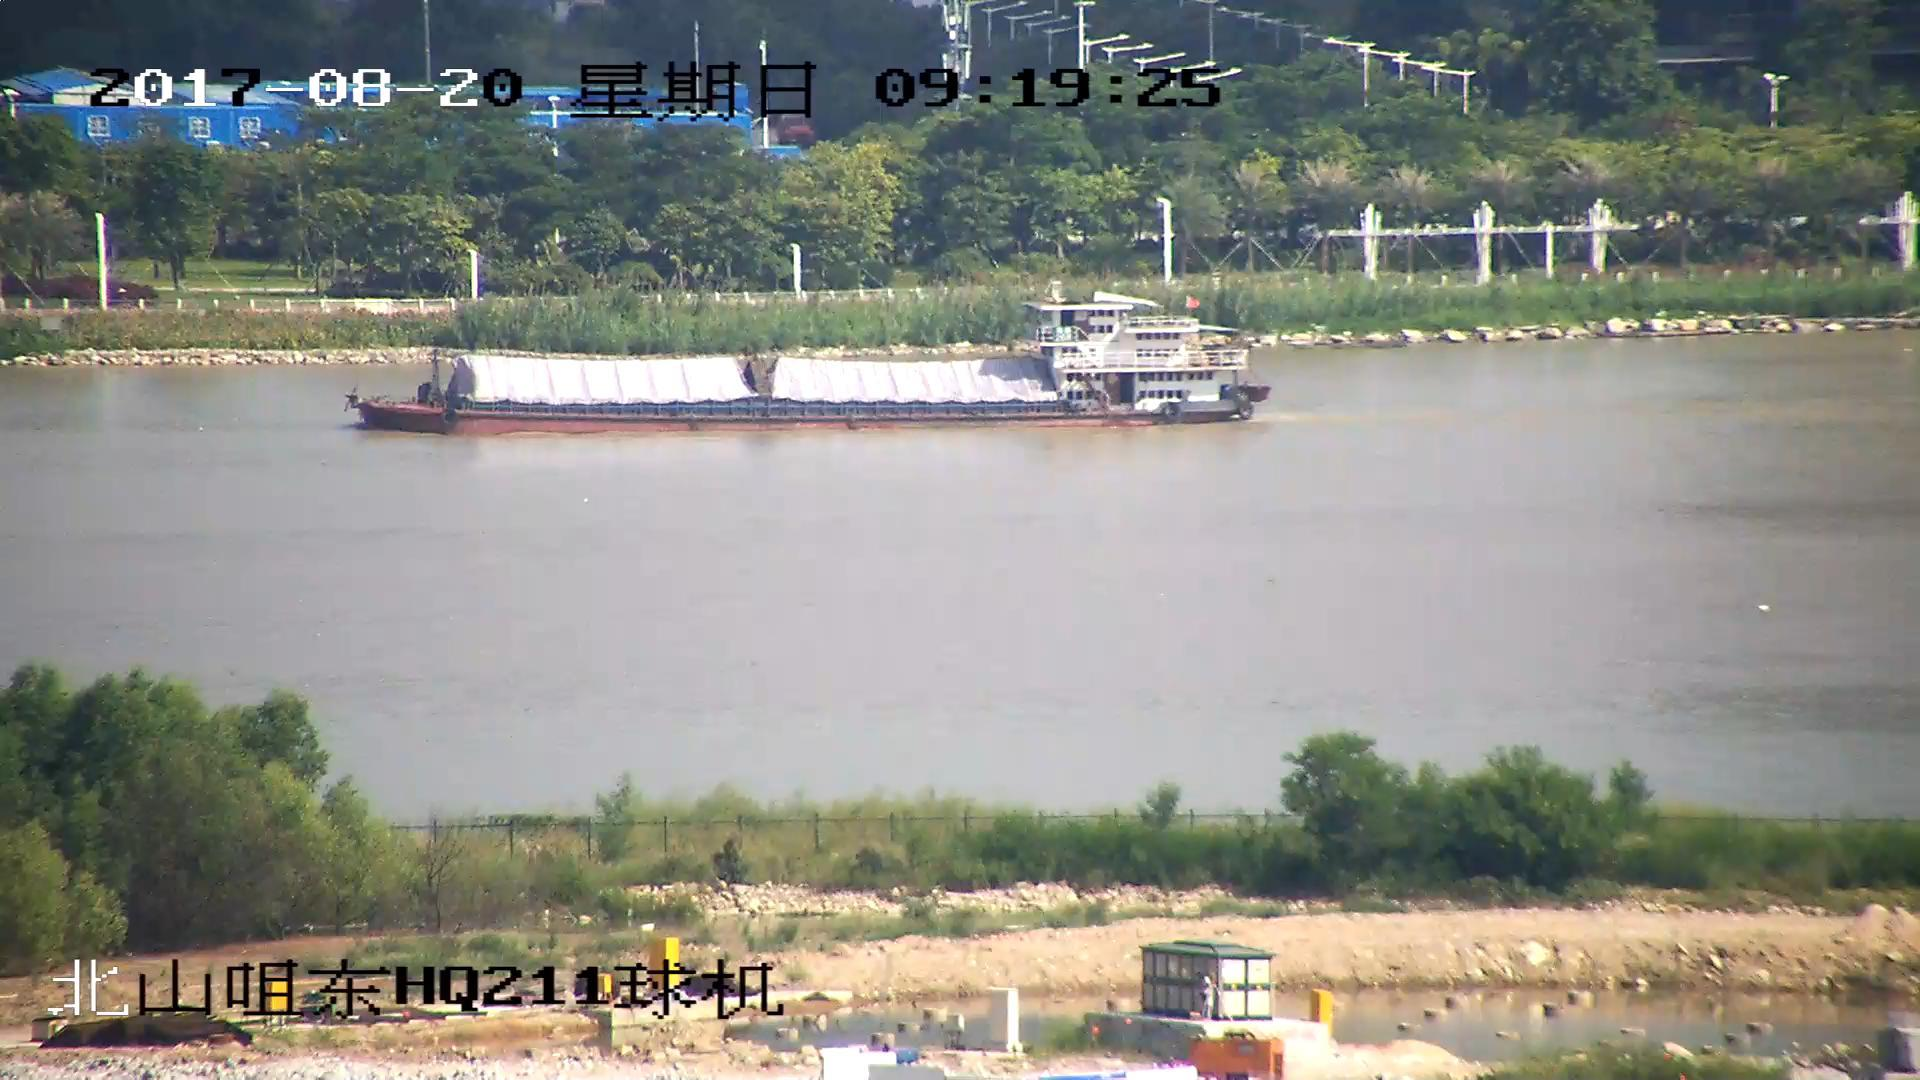Ship: (357, 293, 1269, 431)
